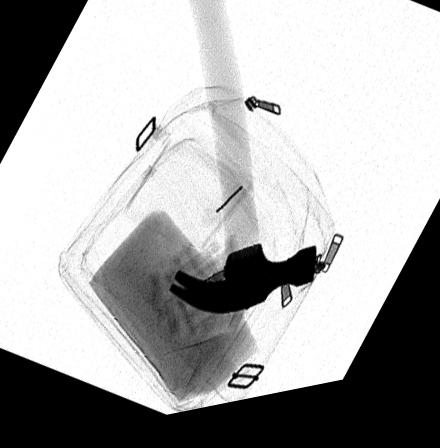Hammer: (167, 0, 317, 324)
